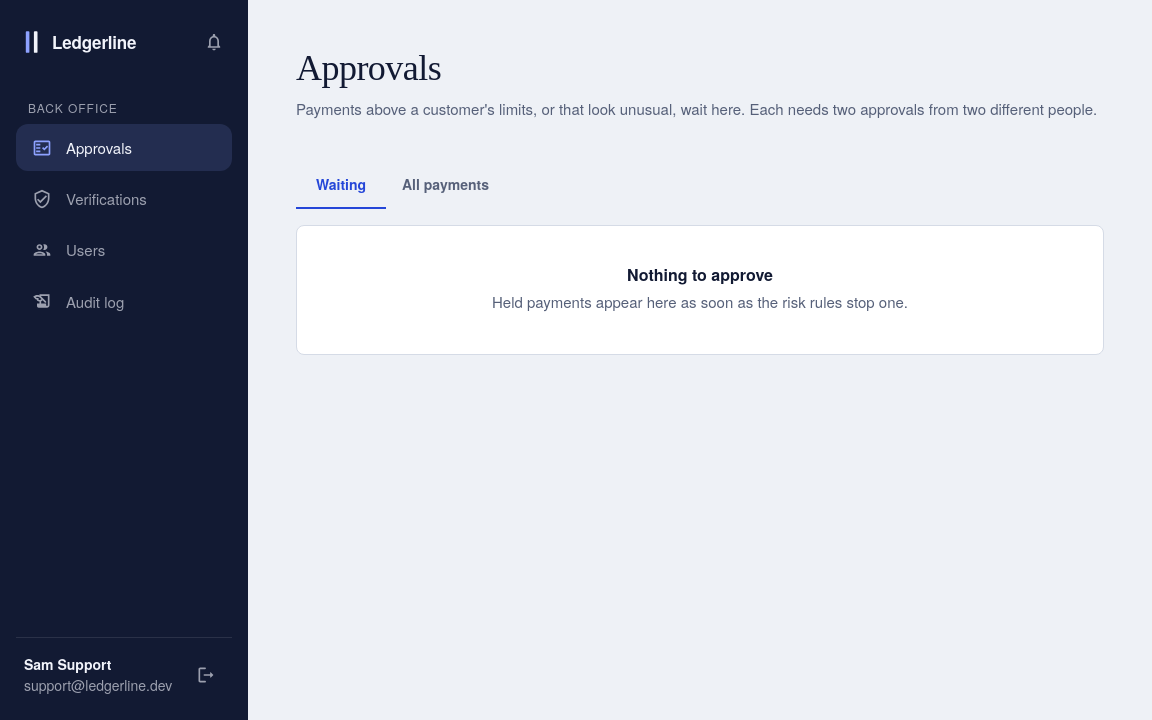
Test: Approvals › refunds a completed payment
The width and height of the screenshot is (1152, 720).
Step 1. Click the tab "All payments" → x=445, y=185, box [386, 161, 505, 209]
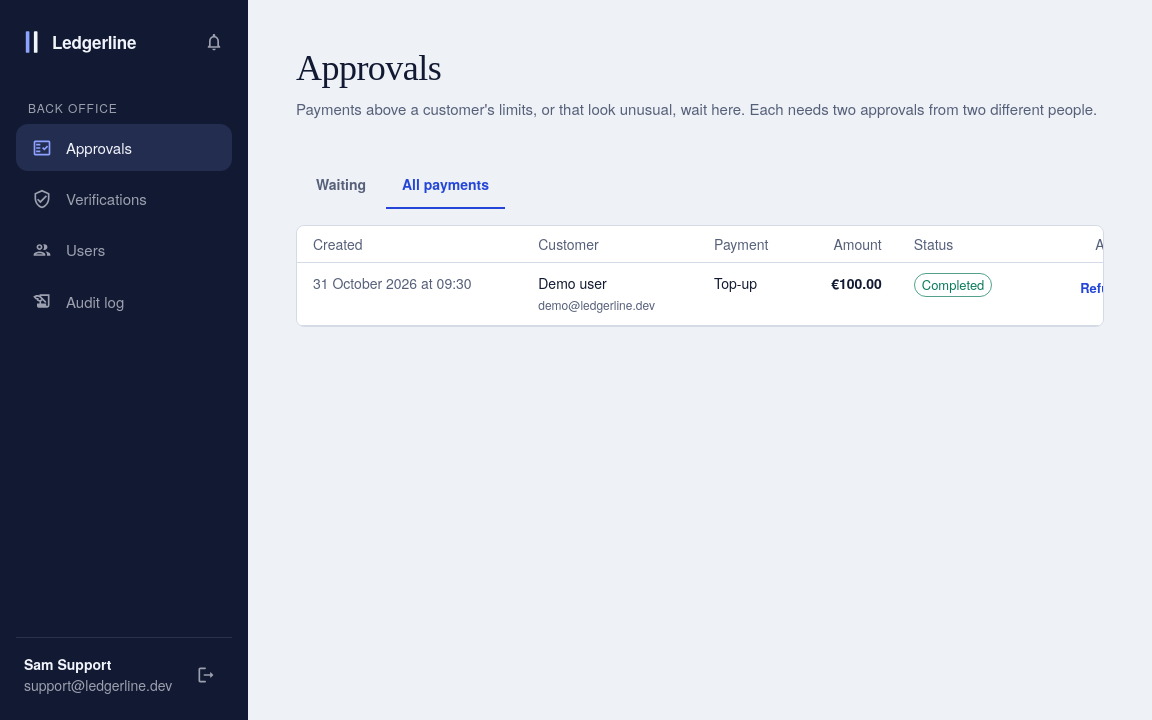
Step 2. Click the button with aria-label "Refund €100.00 to Demo user" → x=1103, y=288, box [1064, 273, 1141, 303]
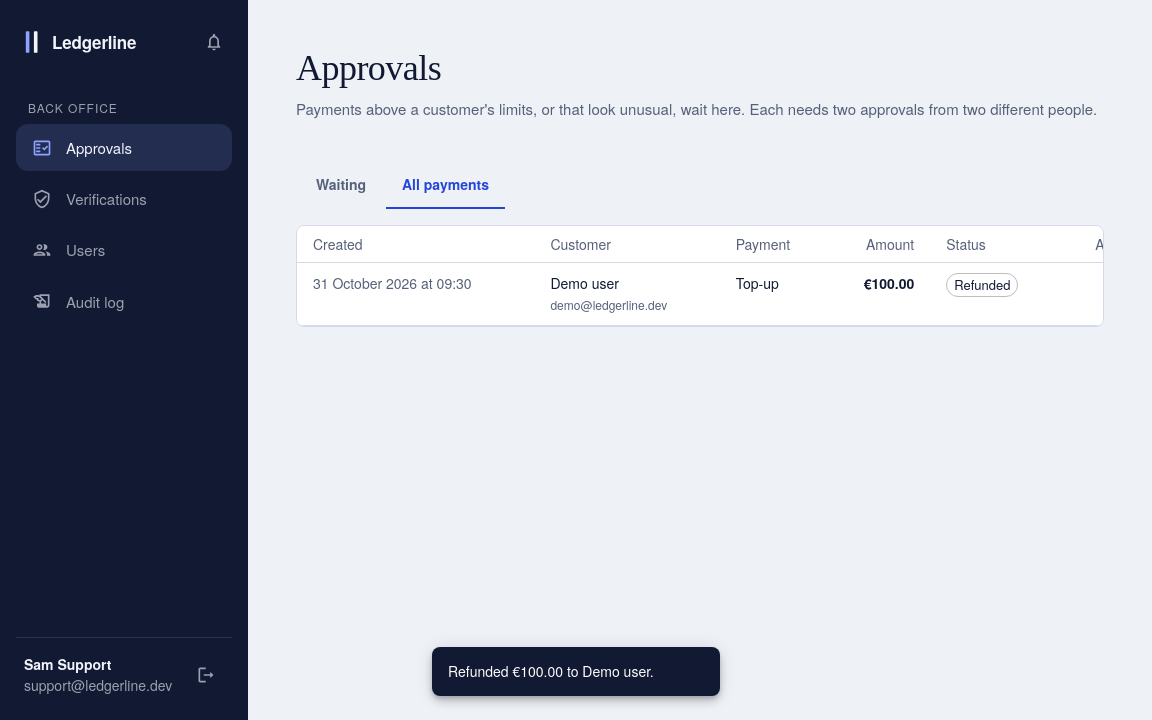
Now the text "Refunded €100.00 to Demo user." is shown, box [448, 661, 654, 681]
Now the text "Refunded" is shown, box [954, 275, 1010, 294]
